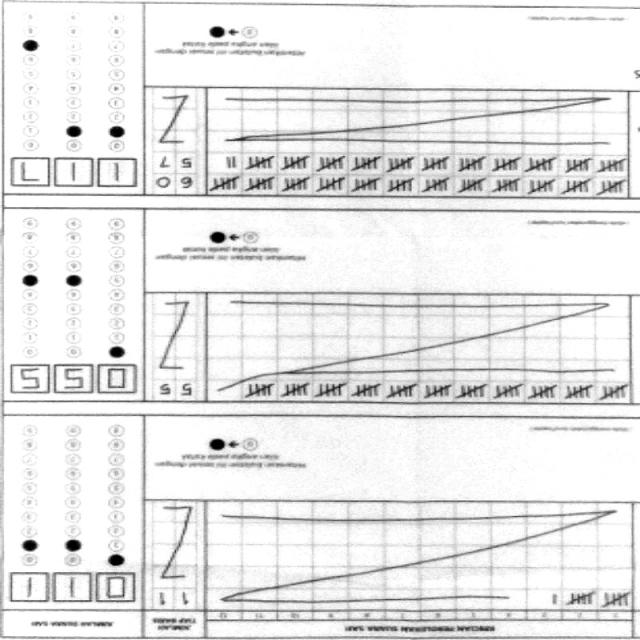Suara: (10, 362, 143, 401), (8, 569, 138, 608), (8, 158, 142, 191)
